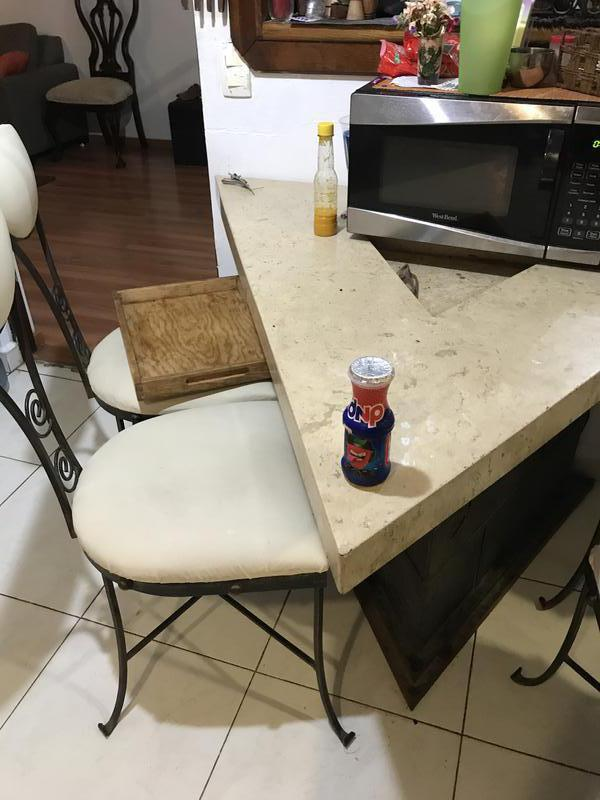danup: (337, 355, 400, 488)
